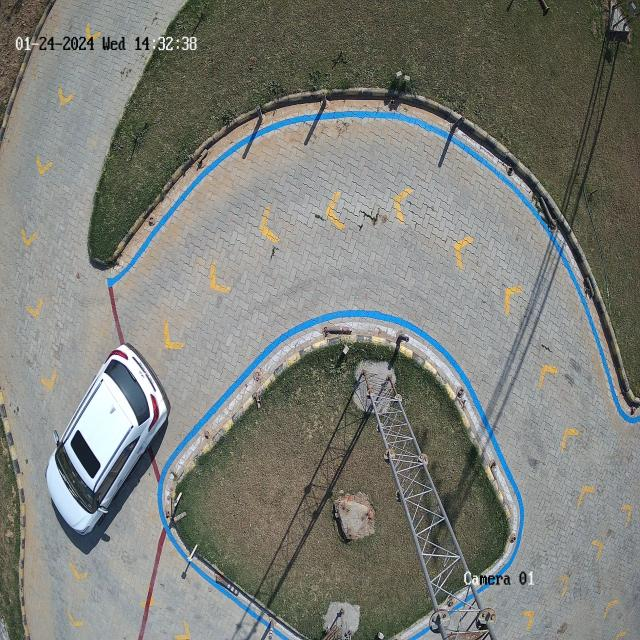car: (46, 345, 170, 535)
